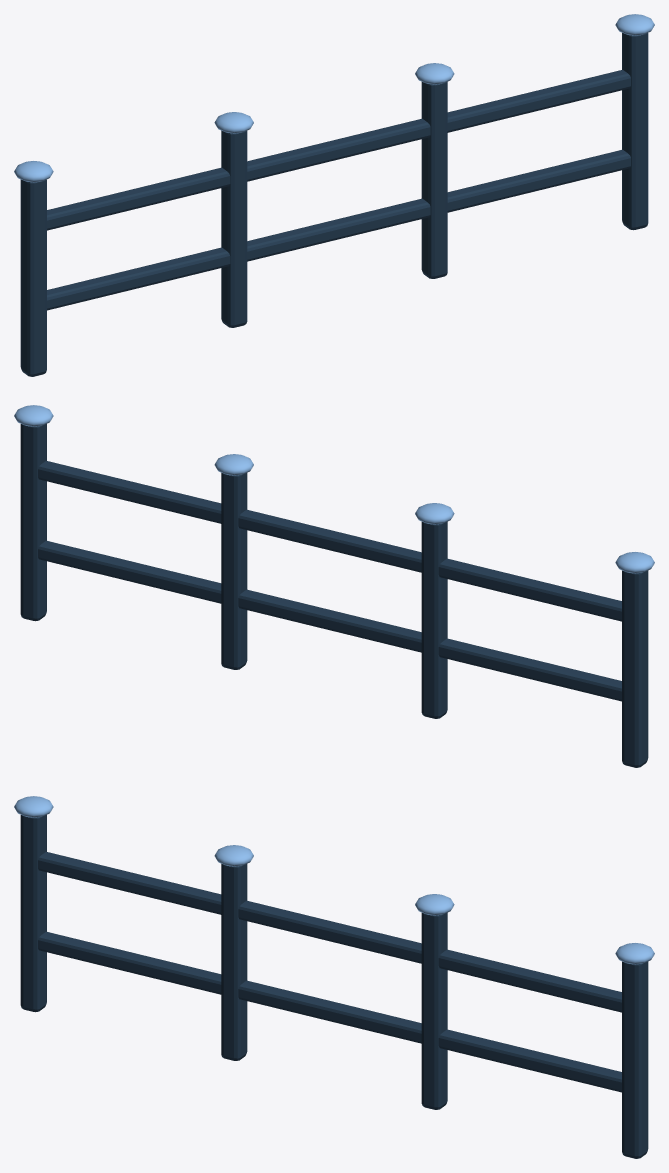
File: snow_fence.glb
The picture shows the model from 3 angles, top to bottom: view 1: azimuth 30°, elevation 25°; view 2: azimuth 150°, elevation 25°; view 3: azimuth 330°, elevation 25°; orthographic projection.
Parts seen in each view (by area): view 1: snow_fence; view 2: snow_fence; view 3: snow_fence.
Part boxes in pixels (left/top/right/bottom): snow_fence: left=14, top=14, right=654, bottom=376; snow_fence: left=14, top=405, right=654, bottom=767; snow_fence: left=14, top=796, right=654, bottom=1158.
Size of the model in its own units: 3.33 by 1.05 by 0.18.
